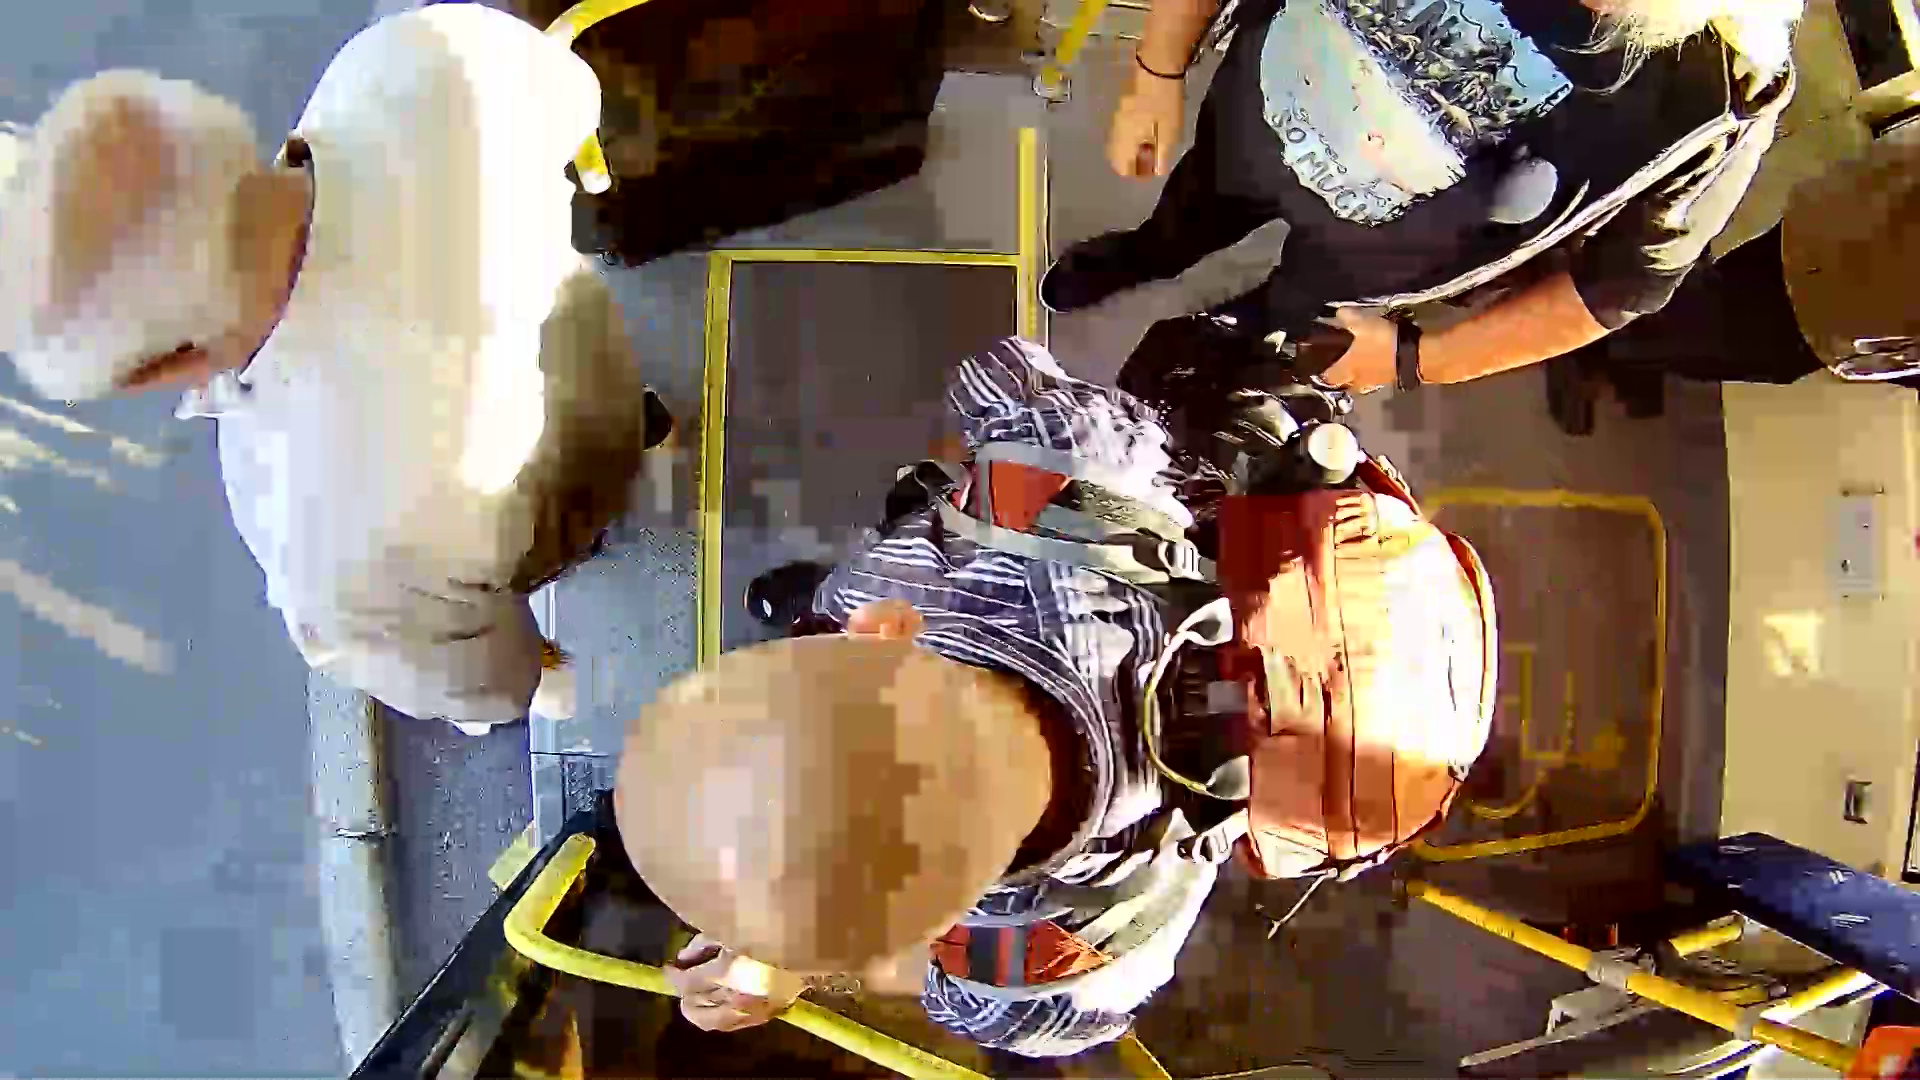person: (620, 327, 1573, 1035), (16, 32, 757, 622)
